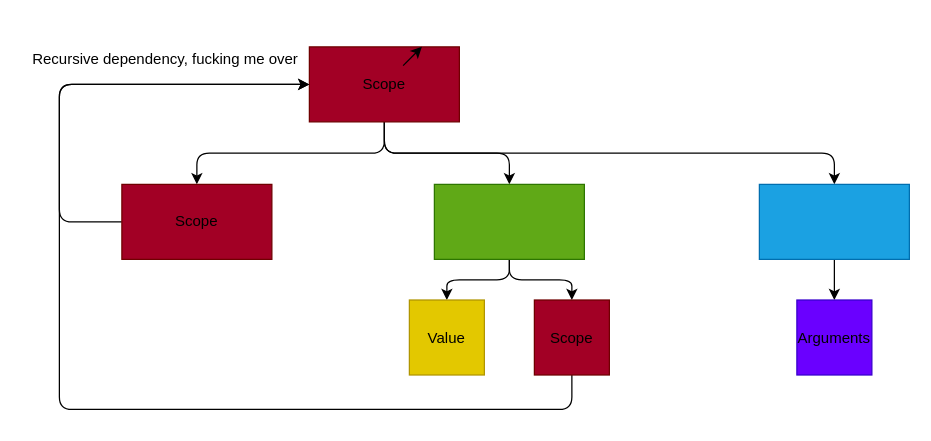
This 931x441 diagram has some shape labels left out. Each missing label, with the centre of its shape:
Declaration: [508,221]
Function Call: [833,221]
